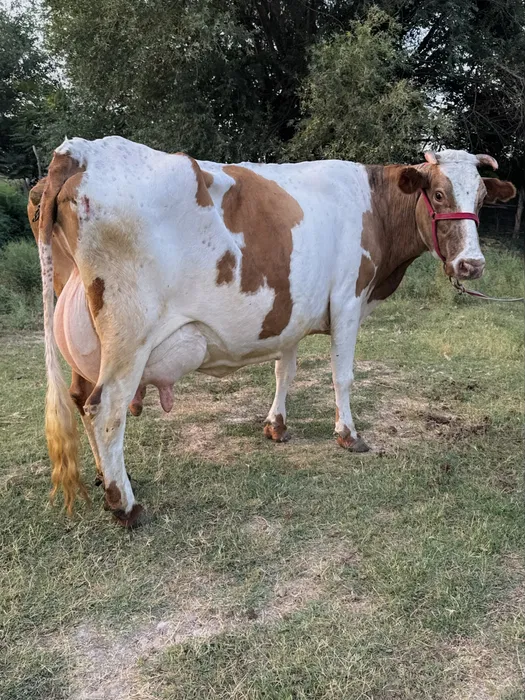cow: (37, 122, 501, 498)
